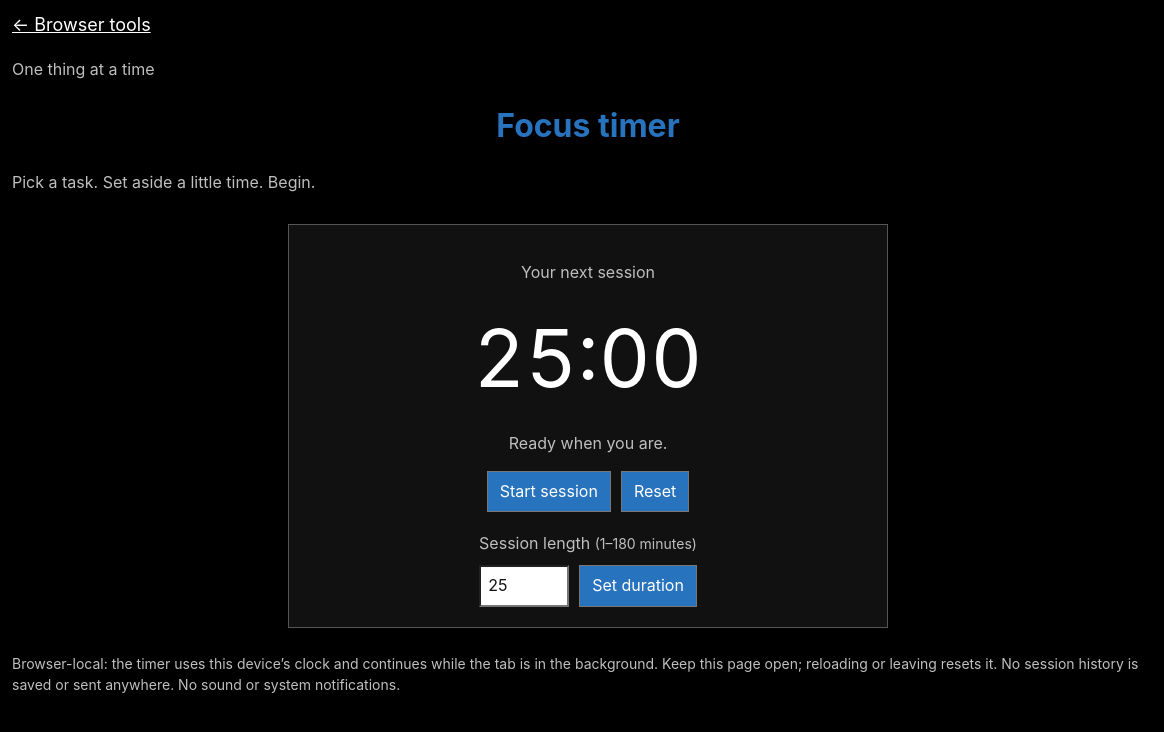
clock-based countdown catches up after background throttling and cleans up
Click the button "Start session" at (549, 492), box [487,471,611,512]
Wait 250 ms
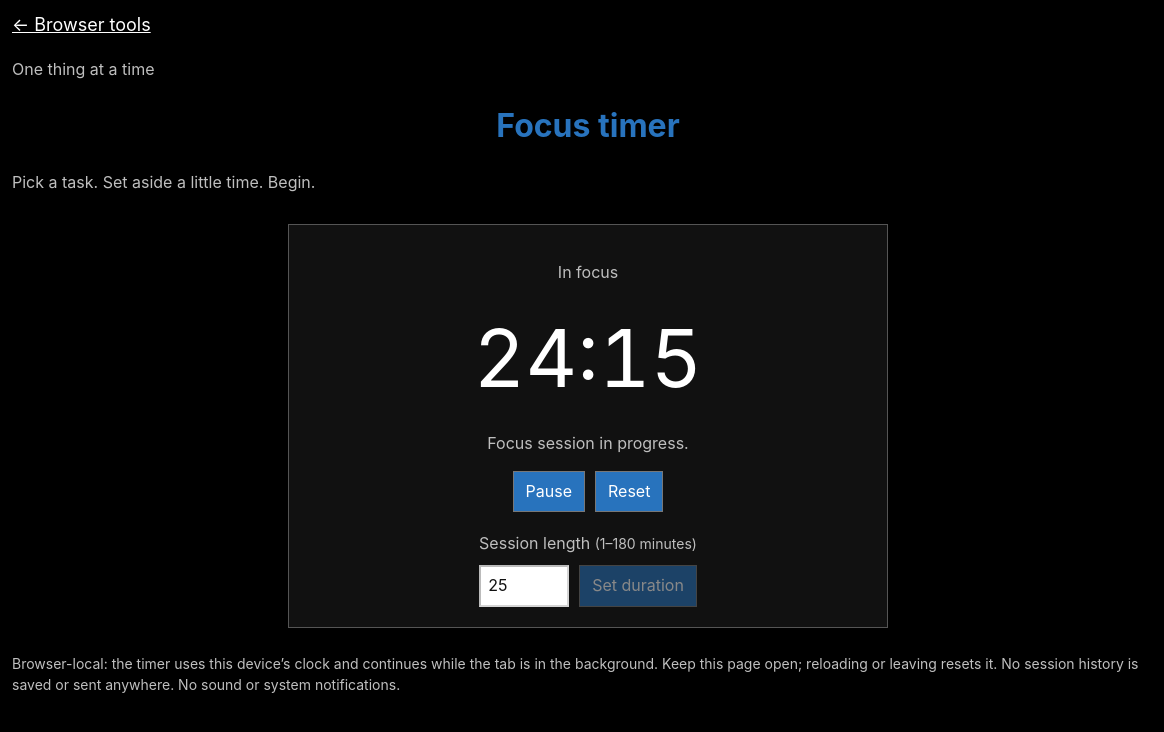
Result: the text "24:15" is shown at [474,309,702,406]
